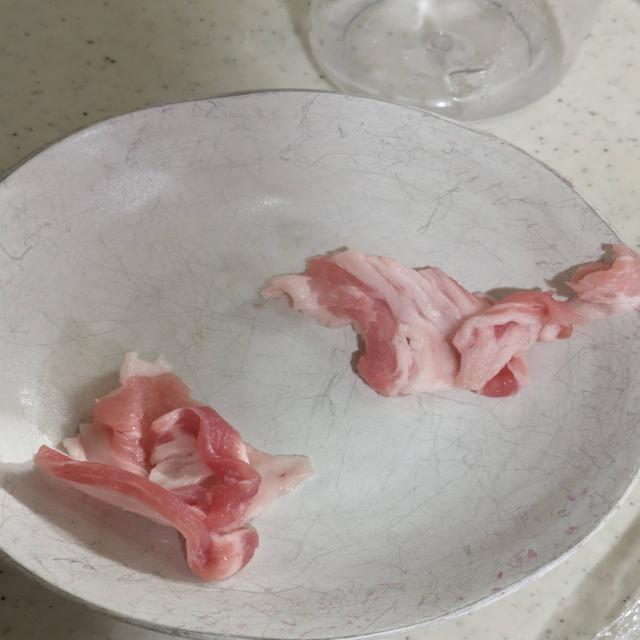NG raw pork,: (16, 340, 331, 593), (244, 235, 640, 412)
